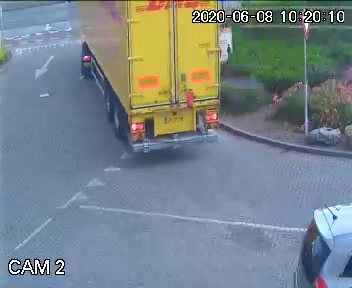car: (72, 0, 242, 187), (277, 192, 352, 288)
